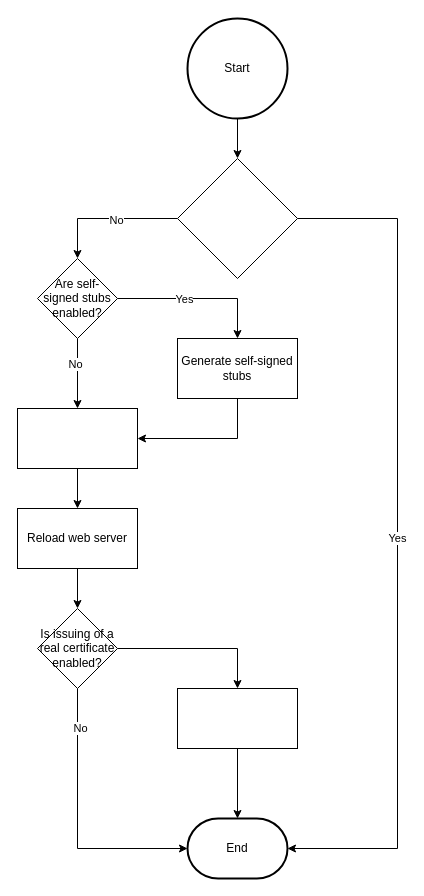
Some shapes in this 424 by 896 pixel diagram are drawn without their labels. The shapes that lost their labels are listed below. From the top down, each one's centre as x and y in pixels, then its label:
At point (237, 218): "Symlink exists and there is a certificate managed by certbot".
At point (77, 438): "Link stubs to the location that is read by web server".
At point (237, 718): "Make certbot issue & deploy a real certificate".
